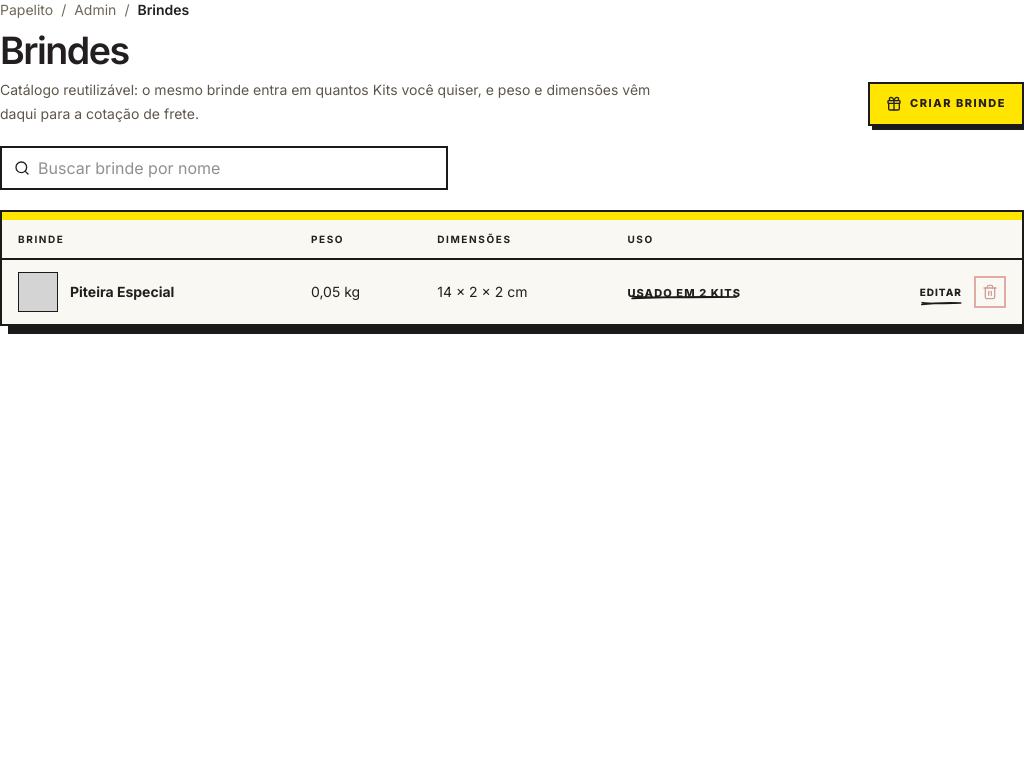
it: MerchandiseManager › pede confirmação antes de despublicar Kits e informa o resultado
The image size is (1024, 768).
Click the button "Editar" at (941, 292), box [920,276,962,308]
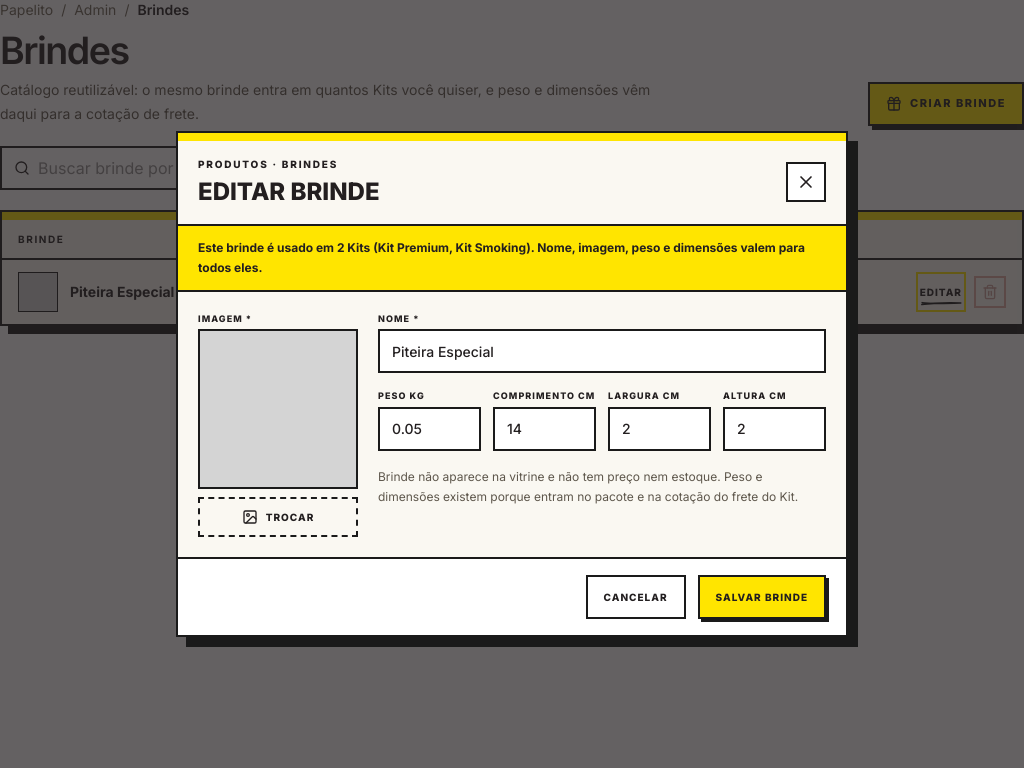
Check: the text "Este brinde é usado em 2 Kits" is shown, box [178,226,846,292]
Replace the text in the field labelled "Peso kg" with "9" at (430, 429), box [378,407,481,451]
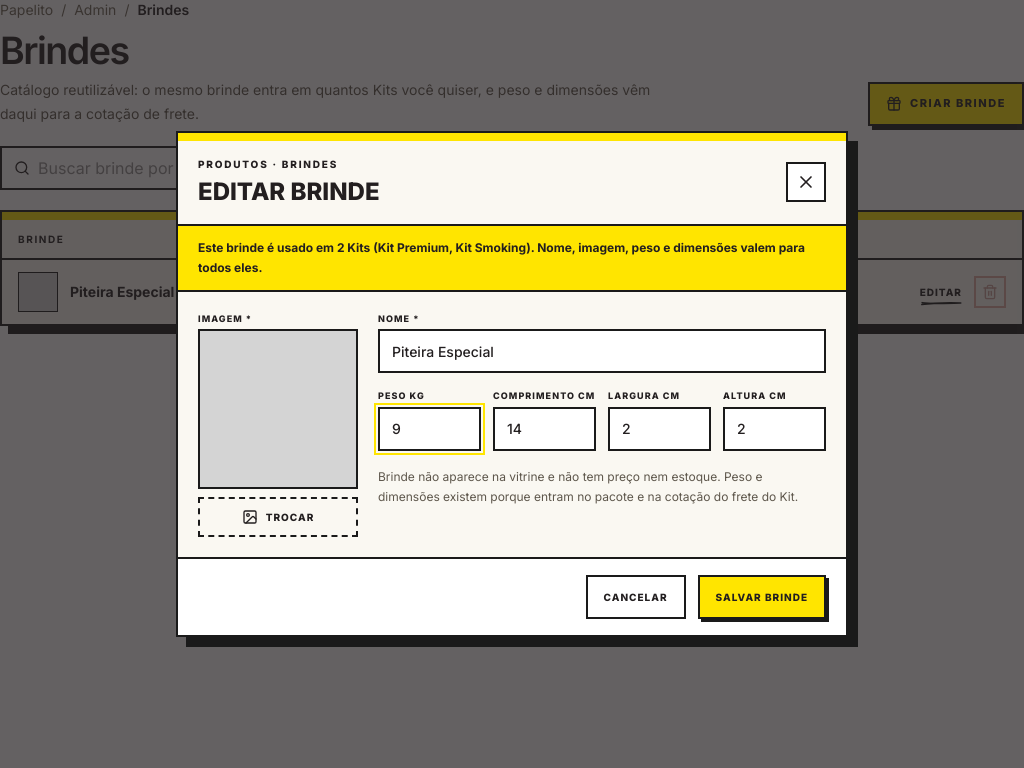
Click the button "Salvar brinde" at (762, 597), box [698,575,826,619]
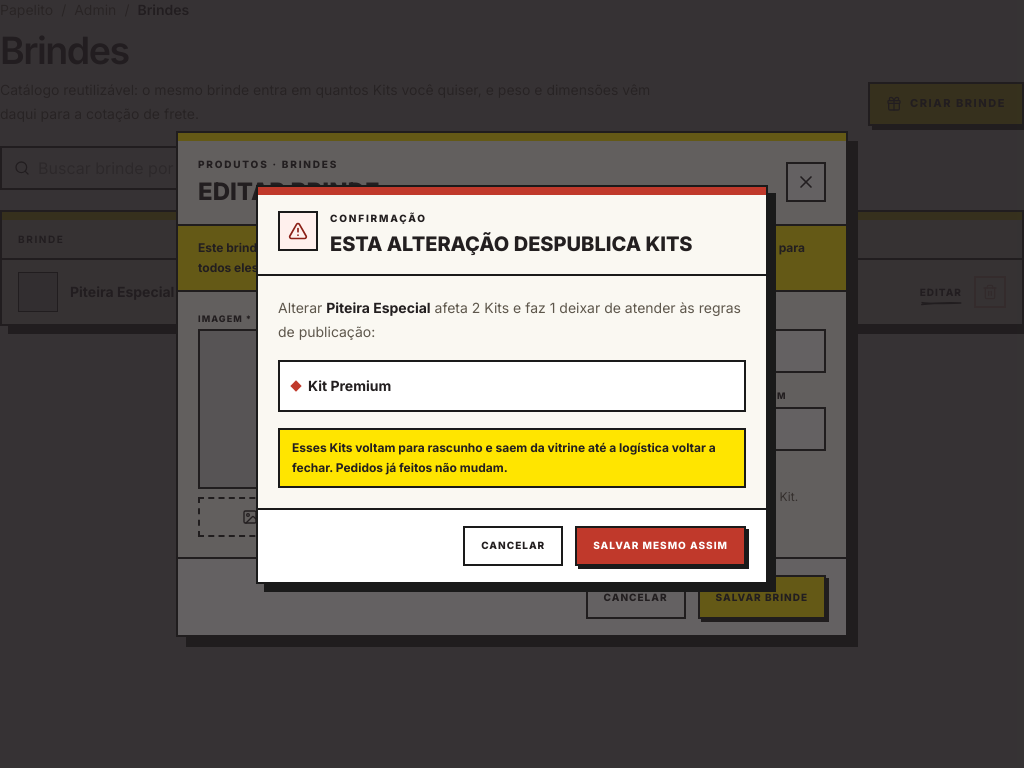
Check: the list item "Kit Premium" is shown, box [290,376,391,394]
Click the button "Salvar mesmo assim" at (661, 546), box [575,526,746,566]
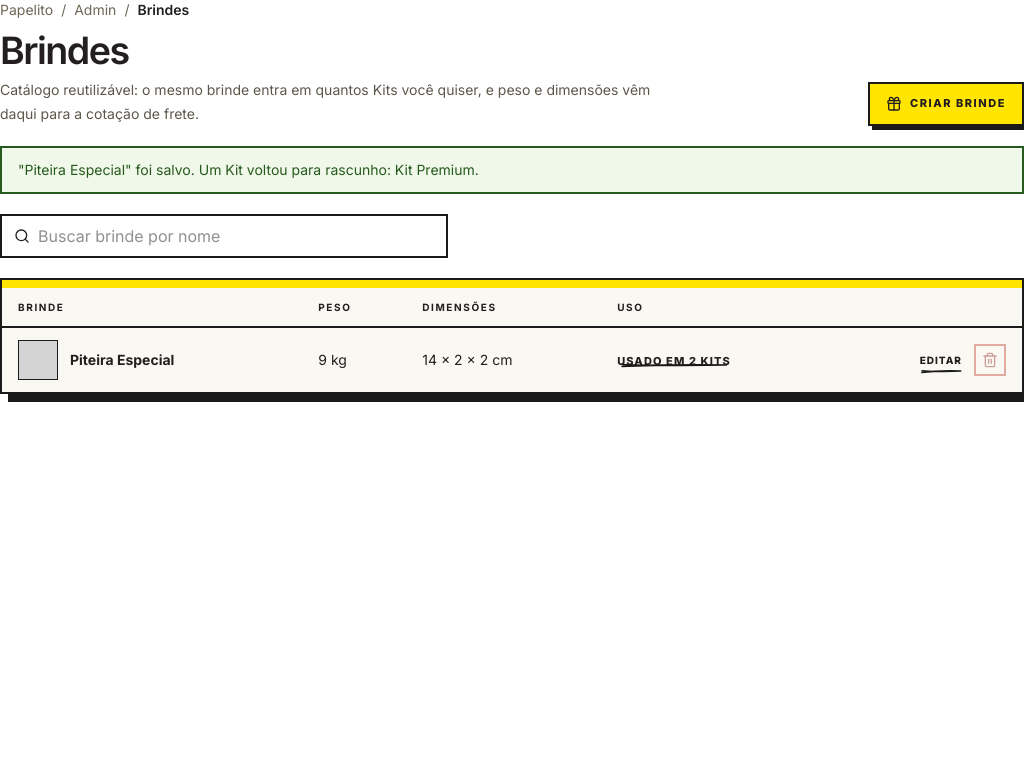
Check: the text "\"Piteira Especial\" foi salvo. Um Kit voltou para rascunho: Kit Premium." is shown, box [0,146,1023,194]
